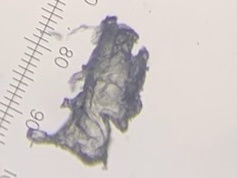microplastic: (26, 16, 149, 170)
